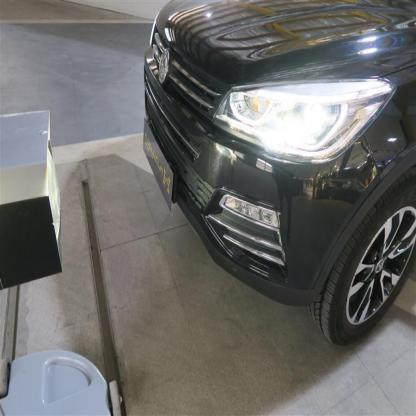Car: (132, 0, 416, 360)
